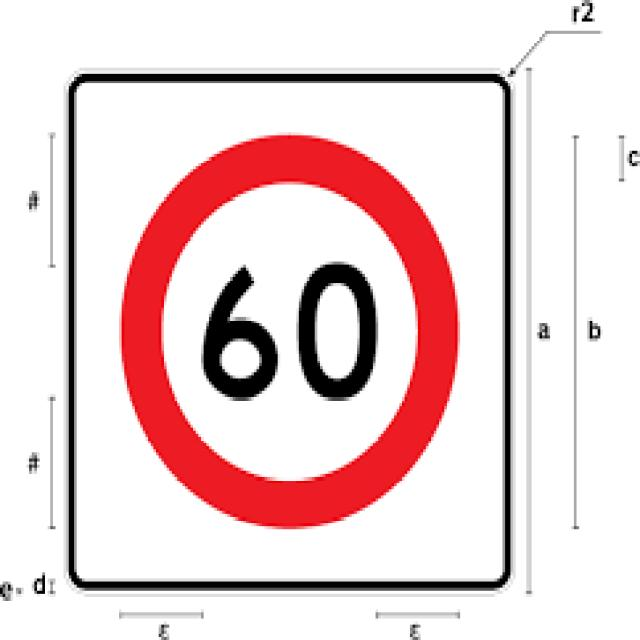Limite-60: (118, 129, 462, 532)
